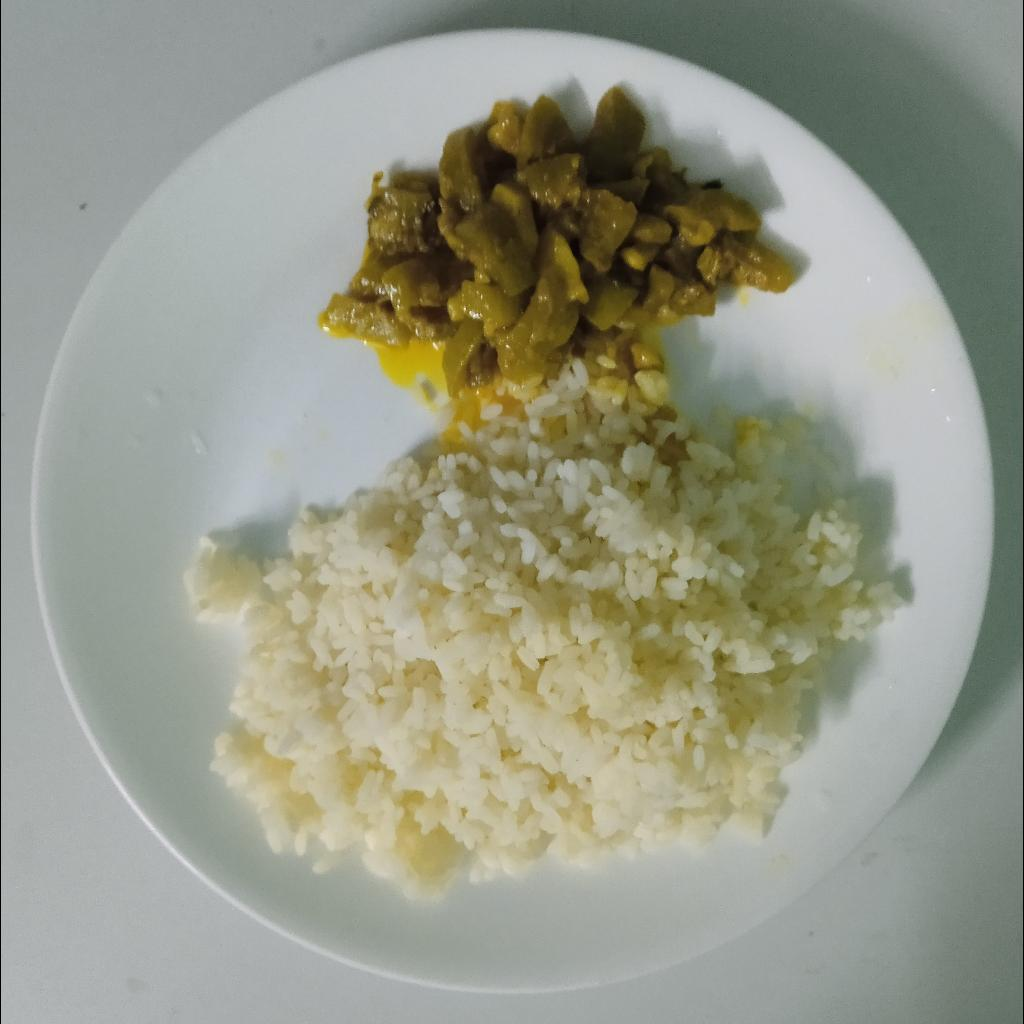dundol: (321, 84, 792, 399)
rice: (178, 371, 911, 906)
